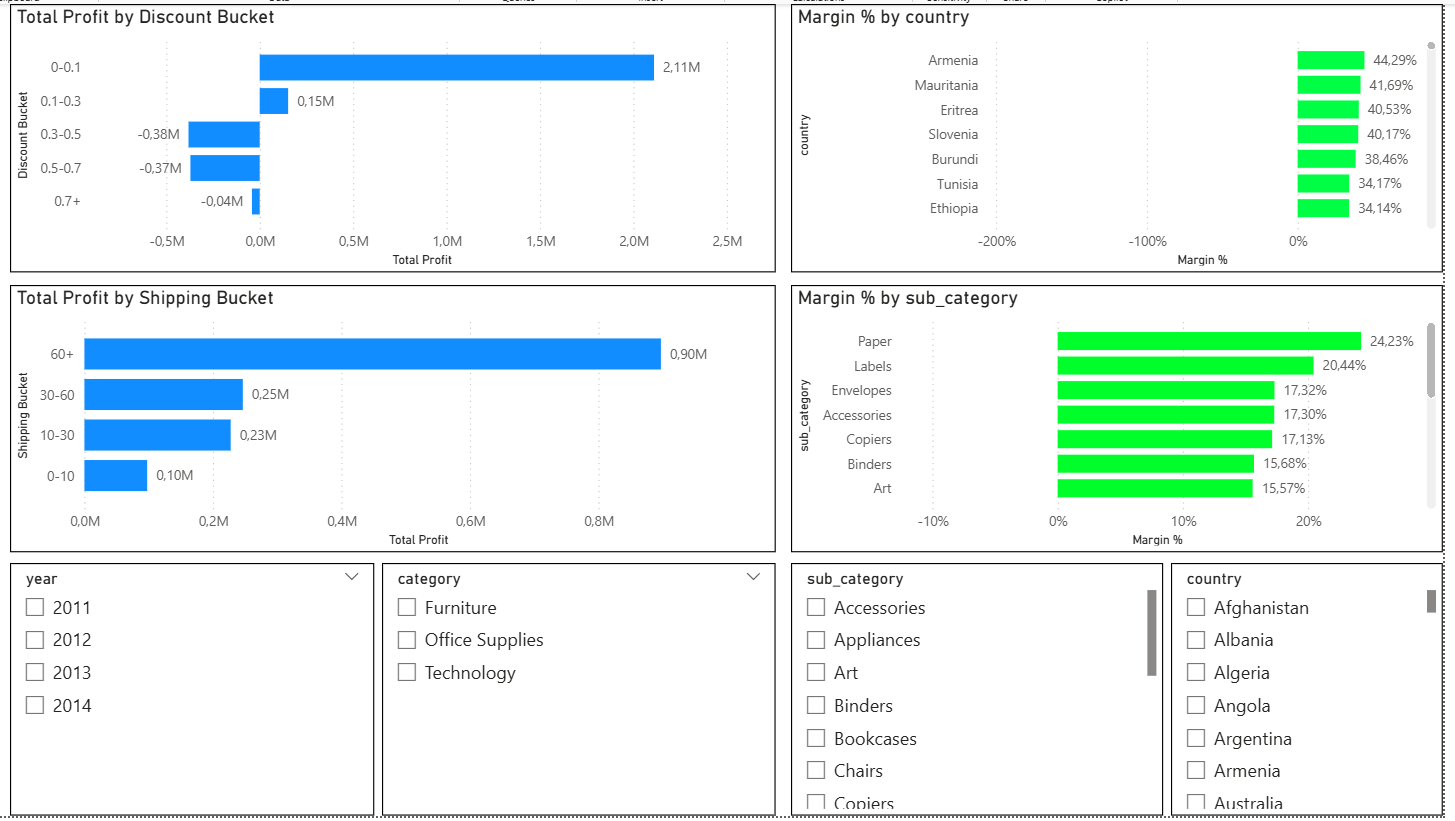

Layout of this report page (visuals, bound fields, positions):
{"tool":"powerbi","page":{"name":"Profit Drivers","canvas":[1280,720],"ordinal":6},"visuals":[{"type":"barChart","fields":{"Category":["orders_view.Discount Bucket"],"Y":["orders_view.Total Profit"]},"box":[9.7,0,678.9,238.3],"z":0},{"type":"barChart","fields":{"Category":["orders_view.Shipping Bucket"],"Y":["orders_view.Total Profit"]},"box":[9.7,249,678.9,237.3],"z":1000},{"type":"barChart","fields":{"Category":["orders_view.country"],"Y":["orders_view.Margin %"]},"box":[702.2,0,577.8,238.3],"z":2000},{"type":"barChart","fields":{"Category":["orders_view.sub_category"],"Y":["orders_view.Margin %"]},"box":[702.2,249,577.8,237.3],"z":3000},{"type":"slicer","fields":{"Values":["orders_view.year"]},"box":[9.7,496,322.9,223.7],"z":4000},{"type":"slicer","fields":{"Values":["orders_view.category"]},"box":[339.5,496,349.2,223.7],"z":5000},{"type":"slicer","fields":{"Values":["orders_view.country"]},"box":[1038.8,496,241.2,223.7],"z":6000},{"type":"slicer","fields":{"Values":["orders_view.sub_category"]},"box":[702.2,496,329.7,223.7],"z":7000}]}

Visuals, with their boxes in screenshot pixels (x1, y1, x2, y2), scaled from the page's 1280x720 canvas onto the 1455x821 screenshot:
barChart - orders_view.Discount Bucket x orders_view.Total Profit: l=11, t=0, r=783, b=272
barChart - orders_view.Shipping Bucket x orders_view.Total Profit: l=11, t=284, r=783, b=555
barChart - orders_view.country x orders_view.Margin %: l=798, t=0, r=1454, b=272
barChart - orders_view.sub_category x orders_view.Margin %: l=798, t=284, r=1454, b=555
slicer - orders_view.year: l=11, t=566, r=378, b=820
slicer - orders_view.category: l=386, t=566, r=783, b=820
slicer - orders_view.country: l=1181, t=566, r=1454, b=820
slicer - orders_view.sub_category: l=798, t=566, r=1173, b=820
